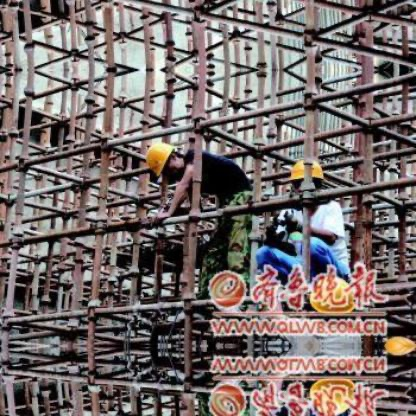Safety Helmet: (278, 152, 328, 212), (142, 139, 189, 188)
